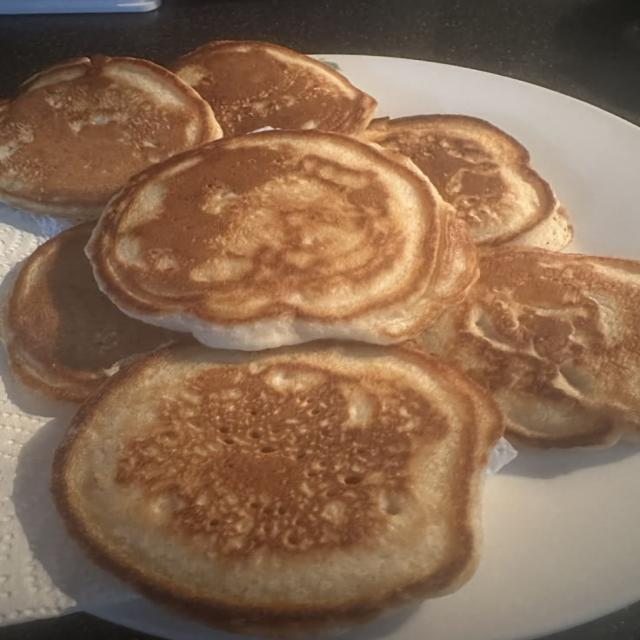pancake: (53, 344, 502, 636), (87, 130, 477, 349), (420, 248, 639, 447), (0, 56, 221, 217), (4, 223, 185, 401), (360, 115, 573, 250), (172, 42, 376, 136)
